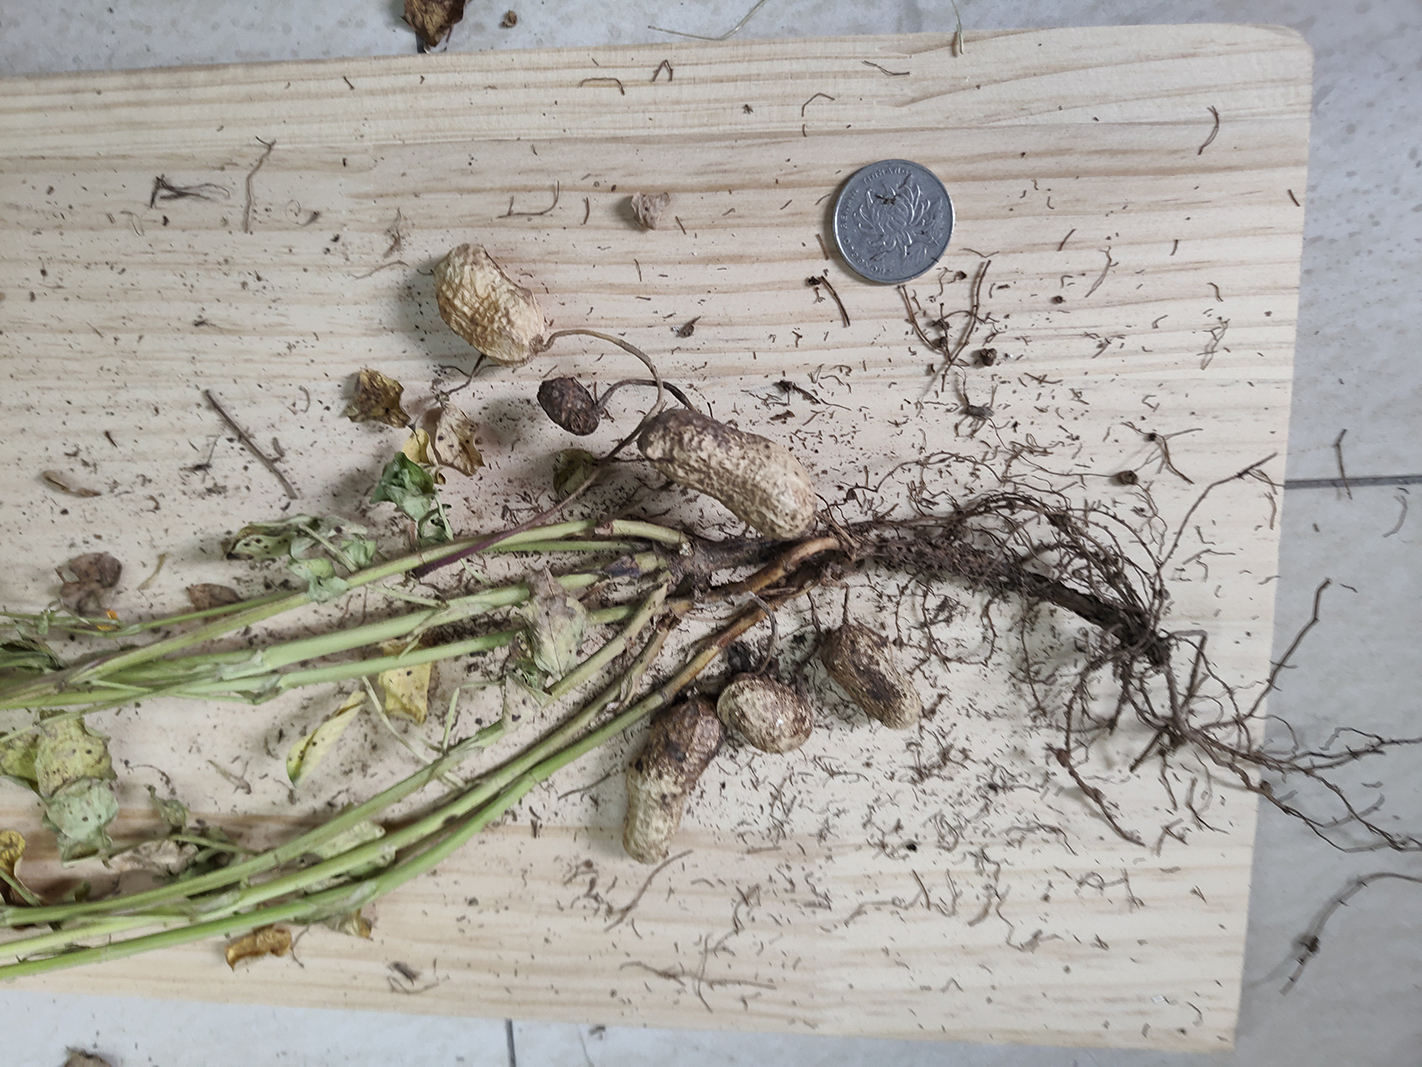h: (639, 412, 816, 545), (435, 244, 548, 363), (721, 677, 811, 751)
l: (623, 697, 719, 866), (822, 628, 923, 729), (536, 378, 601, 434)
